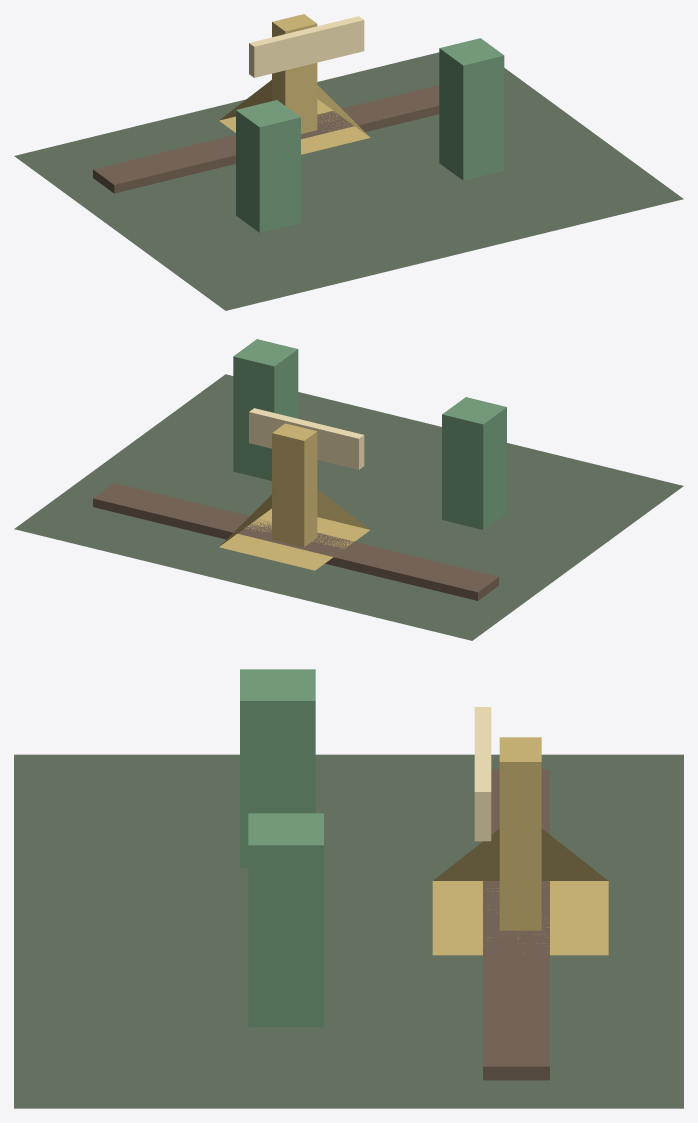
The model's file is world.glb.
The picture shows the model from 3 angles, top to bottom: view 1: azimuth 30°, elevation 25°; view 2: azimuth 150°, elevation 25°; view 3: azimuth 270°, elevation 25°; orthographic projection. The views are drawn at different scales.
Visible parts, largest first — view 1: affirmations_opaque_mesh, affirmations_emissive_mesh; view 2: affirmations_opaque_mesh, affirmations_emissive_mesh; view 3: affirmations_opaque_mesh, affirmations_emissive_mesh.
Boxes of the visible parts, x1=… form: affirmations_opaque_mesh: x1=14, y1=14, x2=683, y2=310; affirmations_emissive_mesh: x1=249, y1=16, x2=364, y2=77; affirmations_opaque_mesh: x1=14, y1=339, x2=683, y2=640; affirmations_emissive_mesh: x1=249, y1=408, x2=364, y2=469; affirmations_opaque_mesh: x1=14, y1=669, x2=683, y2=1108; affirmations_emissive_mesh: x1=474, y1=707, x2=491, y2=841.
Bounding box in the file's own units: 10 × 2.4 × 8.
